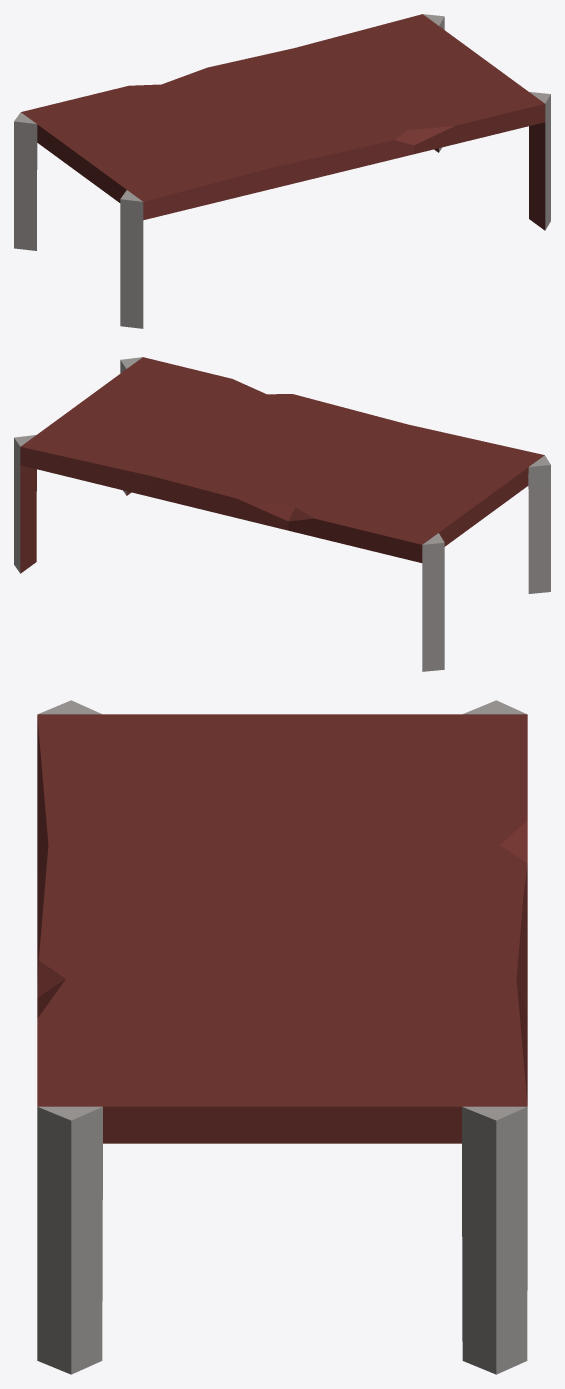
The model's file is SM_Prop_Shelves_01.glb.
3 renders of one model, top to bottom at view 1: azimuth 30°, elevation 25°; view 2: azimuth 150°, elevation 25°; view 3: azimuth 270°, elevation 25°, orthographic. The views are drawn at different scales.
Visible parts, largest first — view 1: SM_Prop_Shelves_01; view 2: SM_Prop_Shelves_01; view 3: SM_Prop_Shelves_01.
Part boxes in pixels (bbox=[...]): SM_Prop_Shelves_01: bbox=[14, 14, 550, 328]; SM_Prop_Shelves_01: bbox=[14, 357, 550, 671]; SM_Prop_Shelves_01: bbox=[37, 700, 527, 1374].
Bounding box in the file's own units: 2.39 × 0.6746 × 1.18.
Materials: 1 (1 with a texture image).
